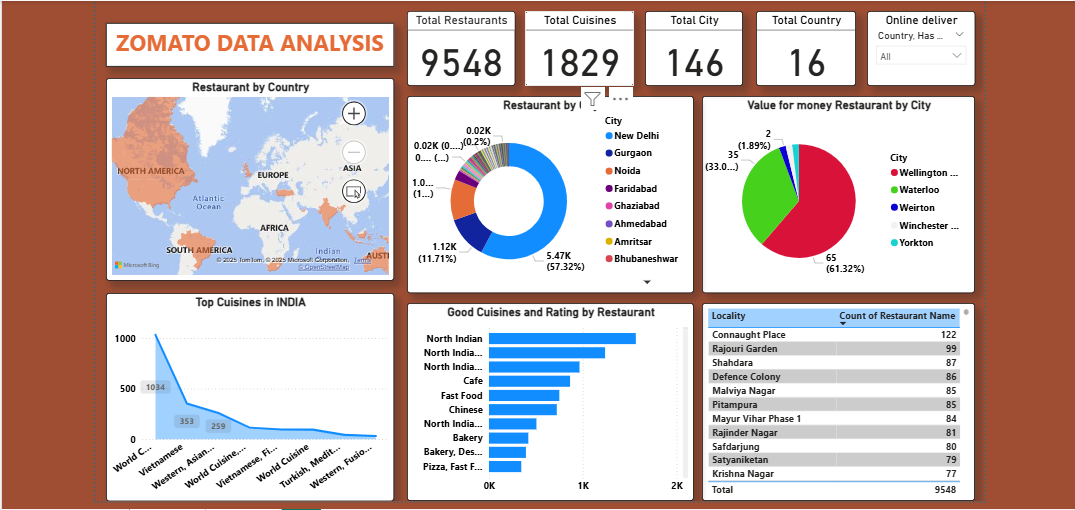

The dashboard page shown, as its layout file describes it:
{"tool":"powerbi","page":{"name":"Page 1","canvas":[1280,720],"ordinal":0},"visuals":[{"type":"filledMap","title":"Restaurant  by Country","fields":{"Category":["Clean Zomato Data.Country"]},"box":[14.4,110.9,414.7,292.3],"z":0},{"type":"pieChart","title":"Value for money Restaurant by City","fields":{"Category":["Clean Zomato Data.City"],"Y":["Sum(Clean Zomato Data.Price range)"]},"box":[872.6,136.8,393.1,283.7],"z":1000},{"type":"stackedAreaChart","title":"Top Cuisines in INDIA","fields":{"Category":["Clean Zomato Data.Cuisines"],"Y":["Sum(Clean Zomato Data.Votes)"]},"box":[14.4,420.5,414.7,299.5],"z":2000},{"type":"tableEx","title":"Restaurant by Locality","fields":{"Values":["Clean Zomato Data.Locality","CountNonNull(Clean Zomato Data.Restaurant Name)"]},"box":[872.6,434.9,393.1,285.1],"z":3000},{"type":"clusteredBarChart","title":"Good Cuisines and Rating by Restaurant","fields":{"Y":["Sum(Clean Zomato Data.Aggregate rating)"],"Category":["Clean Zomato Data.Cuisines"]},"box":[447.8,434.9,413.3,285.1],"z":4000},{"type":"textbox","box":[14.4,31.7,414.7,63.4],"z":5000},{"type":"card","title":"Total Restaurants","fields":{"Values":["CountNonNull(Clean Zomato Data.Restaurant Name)"]},"box":[447.8,14.4,155.5,108],"z":6000},{"type":"donutChart","title":"Restaurant by City","fields":{"Y":["CountNonNull(Clean Zomato Data.Restaurant Name)"],"Category":["Clean Zomato Data.City"]},"box":[447.8,136.8,413.3,283.7],"z":7000},{"type":"card","title":"Total Country","fields":{"Values":["Count(Clean Zomato Data.Country)"]},"box":[950.4,14.4,144,108],"z":8000},{"type":"card","title":"Total Cuisines","fields":{"Values":["Count(Clean Zomato Data.Cuisines)"]},"box":[617.8,14.4,157,108],"z":9000},{"type":"card","title":"Total City","fields":{"Values":["Count(Clean Zomato Data.City)"]},"box":[790.6,14.4,141.1,108],"z":10000},{"type":"slicer","title":"Online deliver","fields":{"Values":["Clean Zomato Data.Country","Clean Zomato Data.Has Online delivery"]},"box":[1110.2,14.4,155.5,108],"z":11000}]}

Visuals, with their boxes in screenshot pixels (x1, y1, x2, y2):
"Restaurant  by Country" filledMap: <box>100,75,389,279</box>
"Value for money Restaurant by City" pieChart: <box>699,93,973,291</box>
"Top Cuisines in INDIA" stackedAreaChart: <box>100,291,389,500</box>
"Restaurant by Locality" tableEx: <box>699,301,973,500</box>
"Good Cuisines and Rating by Restaurant" clusteredBarChart: <box>402,301,691,500</box>
textbox: <box>100,19,389,64</box>
"Total Restaurants" card: <box>402,7,511,83</box>
"Restaurant by City" donutChart: <box>402,93,691,291</box>
"Total Country" card: <box>753,7,853,83</box>
"Total Cuisines" card: <box>521,7,630,83</box>
"Total City" card: <box>641,7,740,83</box>
"Online deliver" slicer: <box>864,7,973,83</box>
